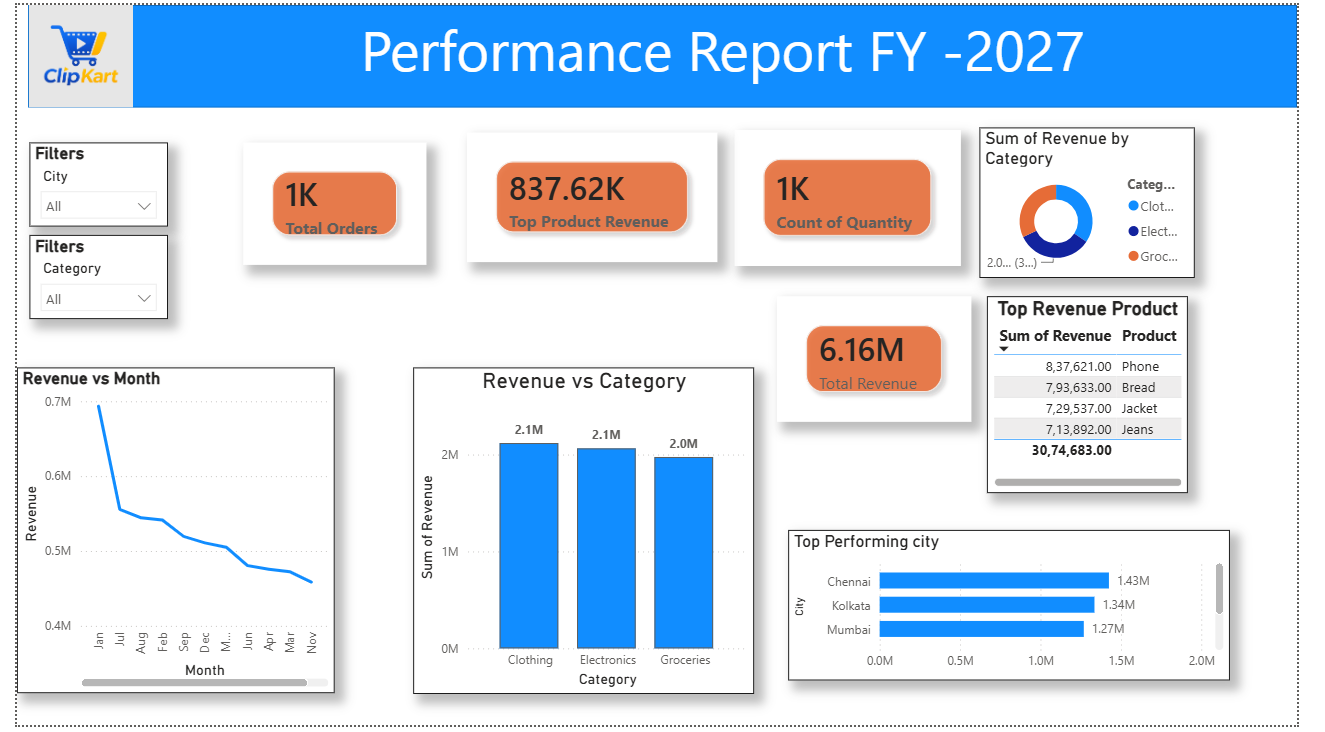

What the dashboard file says about the page in this screenshot:
{"tool":"powerbi","page":{"name":"Page 1","canvas":[1280,720],"ordinal":0},"visuals":[{"type":"shape","box":[11.6,0,1268.8,102.7],"z":0},{"type":"image","box":[0,0,127.8,102.7],"z":1000},{"type":"textbox","box":[339,0,941.4,89.1],"z":2000},{"type":"cardVisual","fields":{"Data":["Sum(clipkart_ecommerce_data.Revenue)"]},"box":[759.4,291,194.4,126],"z":3000},{"type":"columnChart","title":" Revenue vs Category","fields":{"Category":["clipkart_ecommerce_data.Category"],"Y":["Sum(clipkart_ecommerce_data.Revenue)"]},"box":[396.8,362.1,340.5,326.1],"z":5000},{"type":"tableEx","title":"Top Revenue Product","fields":{"Values":["Sum(clipkart_ecommerce_data.Revenue)","clipkart_ecommerce_data.Product"]},"box":[969.7,291,200.5,196.9],"z":6000},{"type":"cardVisual","fields":{"Data":["CountNonNull(clipkart_ecommerce_data.OrderID)"]},"box":[226.2,137,183.4,122.3],"z":7000},{"type":"cardVisual","fields":{"Data":["CountNonNull(clipkart_ecommerce_data.Quantity)"]},"box":[717.8,124.7,226.2,135.7],"z":8000},{"type":"clusteredBarChart","title":"Top Performing city","fields":{"Y":["Sum(clipkart_ecommerce_data.Revenue)"],"Category":["clipkart_ecommerce_data.City"]},"box":[771.6,524.6,441.4,150.4],"z":9000},{"type":"donutChart","fields":{"Category":["clipkart_ecommerce_data.Category"],"Y":["Sum(clipkart_ecommerce_data.Revenue)"]},"box":[962.3,122.6,215,150],"z":11000},{"type":"cardVisual","fields":{"Data":["clipkart_ecommerce_data.Top Product Revenue"]},"box":[450,127.2,250.7,129.6],"z":12000},{"type":"slicer","title":"Filters","fields":{"Values":["clipkart_ecommerce_data.City"]},"box":[12.2,137,138.2,84.4],"z":12001},{"type":"slicer","title":"Filters","fields":{"Values":["clipkart_ecommerce_data.Category"]},"box":[12.2,229.9,138.2,84.4],"z":12002},{"type":"lineChart","title":"Revenue vs Month","fields":{"Category":["clipkart_ecommerce_data.Month"],"Y":["Sum(clipkart_ecommerce_data.Revenue)"]},"box":[0,362.2,317.8,325.6],"z":12003}]}

Visuals, with their boxes in screenshot pixels (x1, y1, x2, y2), scaled from the page's 1280x720 canvas onto the 1325x732 screenshot:
shape: BBox(12, 0, 1324, 104)
image: BBox(0, 0, 132, 104)
textbox: BBox(351, 0, 1324, 91)
cardVisual - Sum(clipkart_ecommerce_data.Revenue): BBox(786, 296, 987, 424)
" Revenue vs Category" columnChart: BBox(411, 368, 763, 700)
"Top Revenue Product" tableEx: BBox(1004, 296, 1211, 496)
cardVisual - CountNonNull(clipkart_ecommerce_data.OrderID): BBox(234, 139, 424, 264)
cardVisual - CountNonNull(clipkart_ecommerce_data.Quantity): BBox(743, 127, 977, 265)
"Top Performing city" clusteredBarChart: BBox(799, 533, 1256, 686)
donutChart - clipkart_ecommerce_data.Category x Sum(clipkart_ecommerce_data.Revenue): BBox(996, 125, 1219, 277)
cardVisual - clipkart_ecommerce_data.Top Product Revenue: BBox(466, 129, 725, 261)
"Filters" slicer: BBox(13, 139, 156, 225)
"Filters" slicer: BBox(13, 234, 156, 320)
"Revenue vs Month" lineChart: BBox(0, 368, 329, 699)
